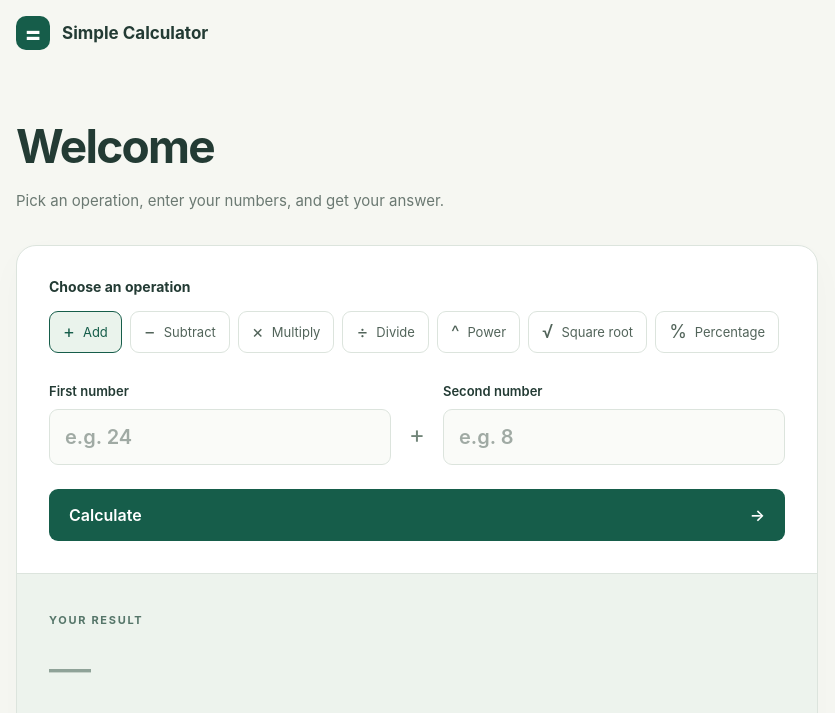
Test: Calculator › shows connection errors
In the number field labelled "First number": (220, 437) [49,409,391,465], type "24"
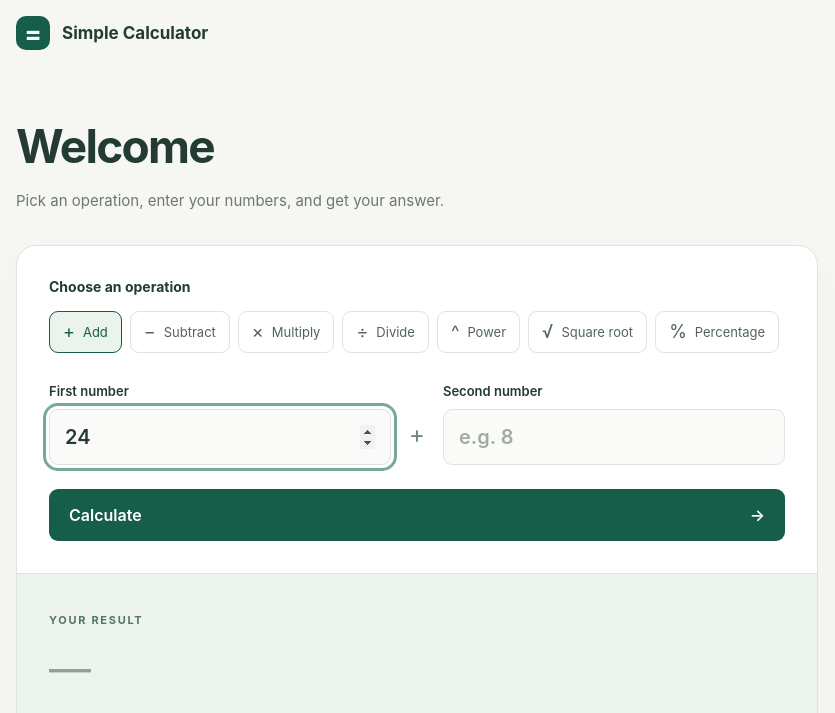
In the number field labelled "Second number": (614, 437) [443,409,785,465], type "8"
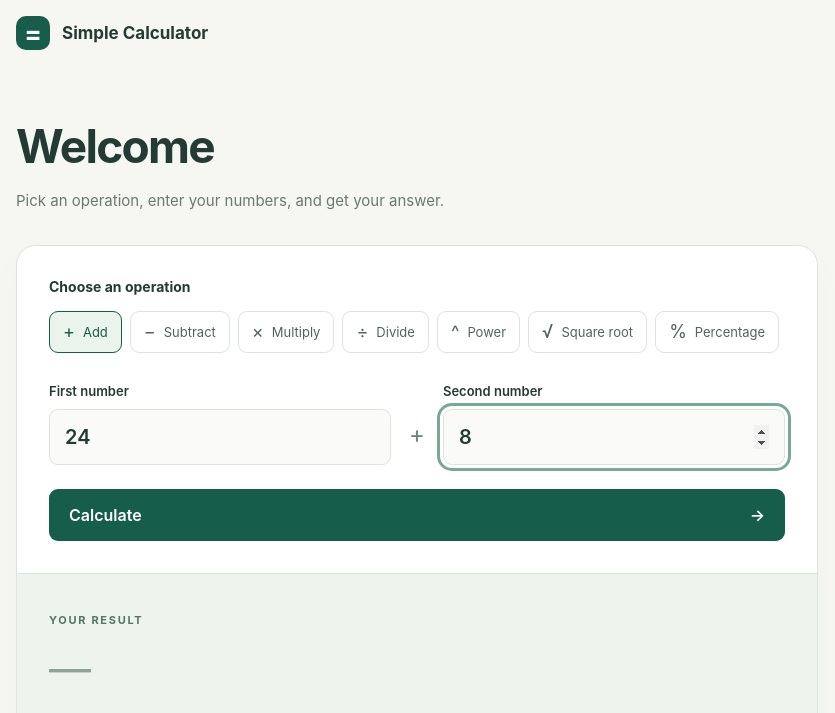
Click the button "Calculate →": (105, 515) [49,489,785,541]
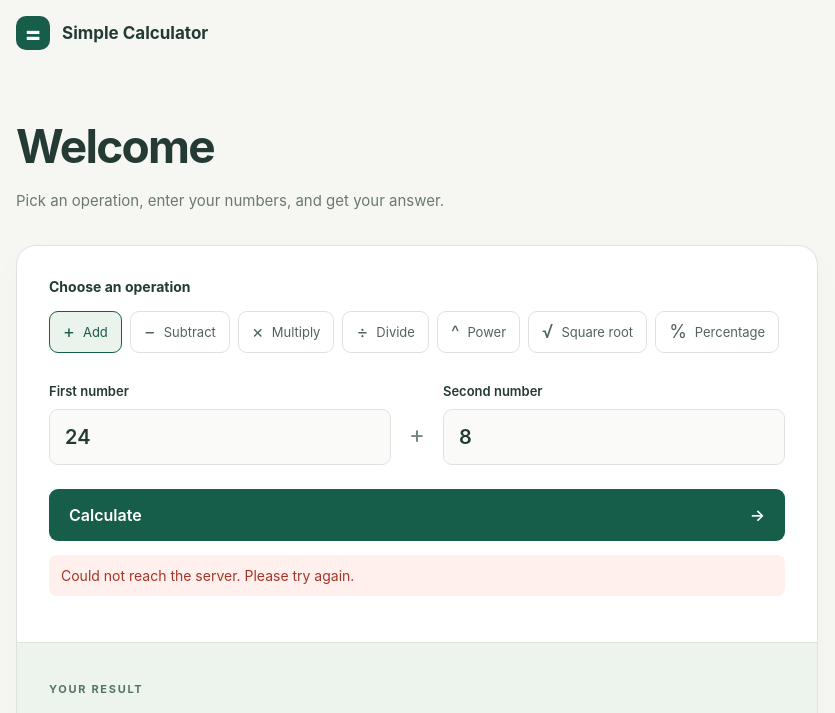
expect the message "Could not reach the server. Please try again." is shown: met, box [49,555,785,596]
